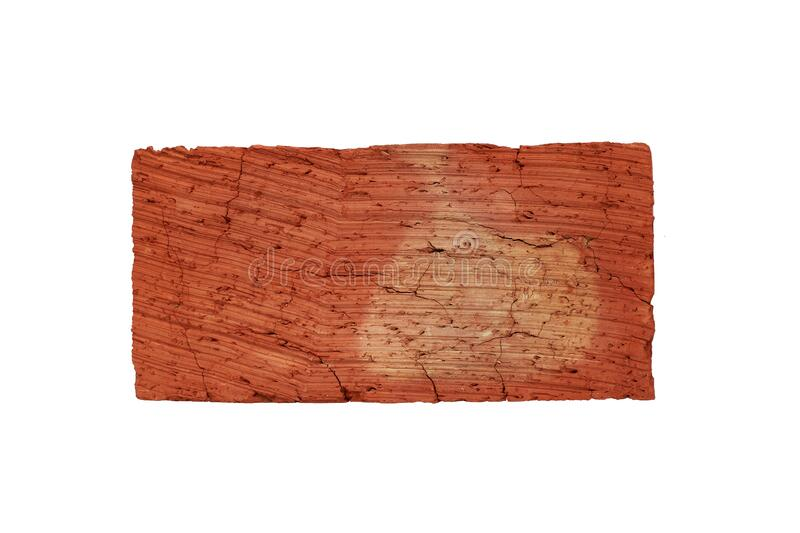brick: (131, 146, 655, 396)
